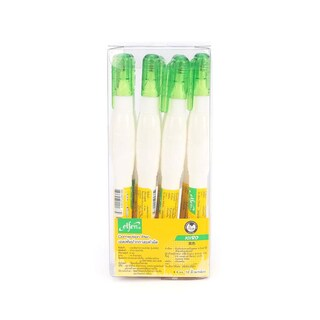Correction_fluid: (109, 50, 138, 219), (186, 52, 210, 219), (161, 53, 185, 219), (137, 51, 159, 218)
